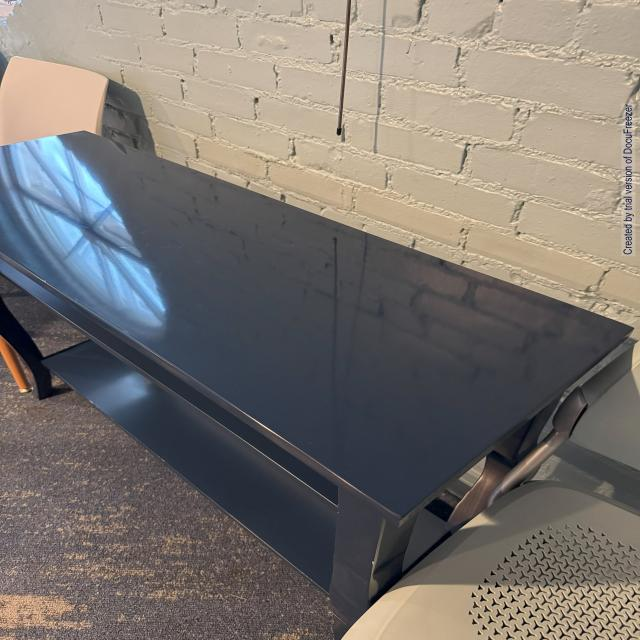Table: (3, 124, 634, 604)
